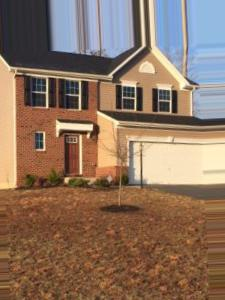patch: (11, 228, 131, 294), (140, 226, 176, 279), (46, 199, 87, 220), (109, 203, 133, 210)
